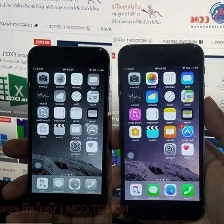phone: (113, 40, 208, 224), (21, 42, 114, 218)
